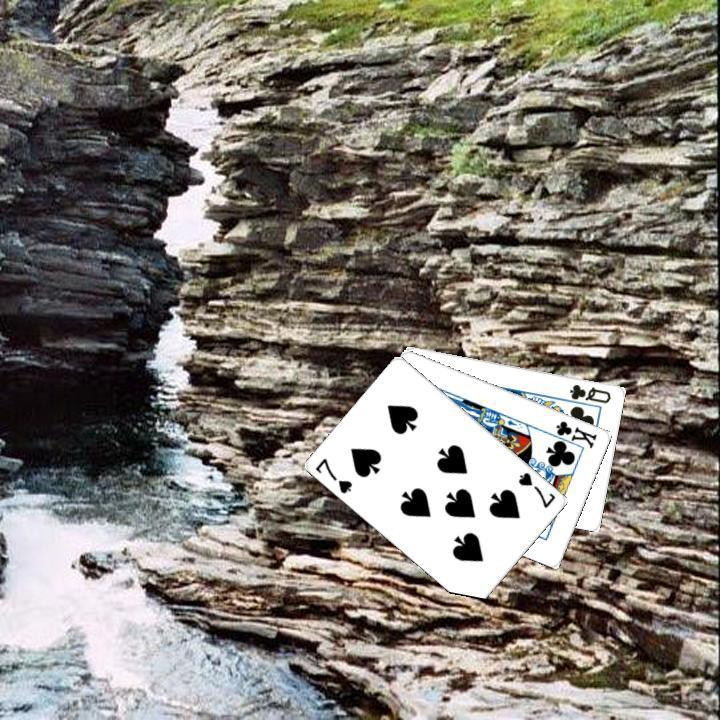7: (514, 468, 558, 510), (311, 454, 355, 496)
K: (544, 416, 599, 452)
Q: (565, 379, 613, 405)
